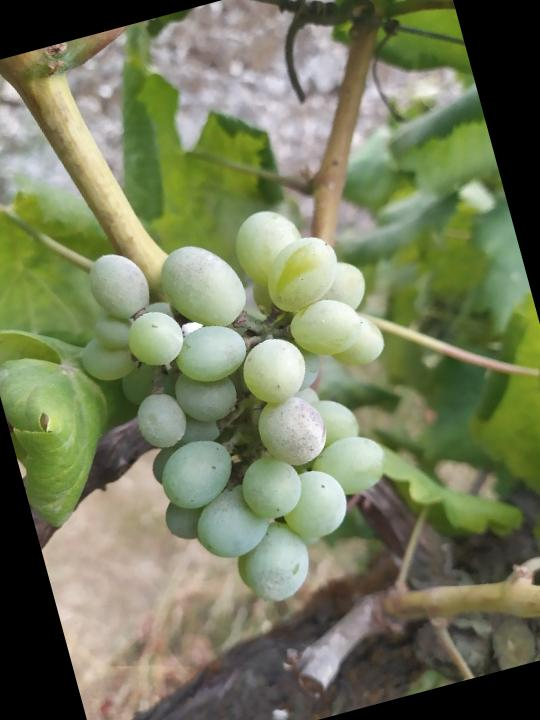grape: (50, 186, 447, 640)
